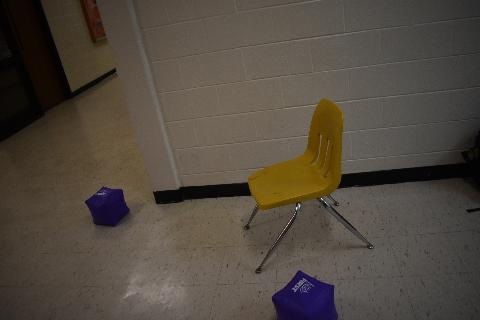cube: (271, 270, 338, 320), (84, 186, 130, 226)
